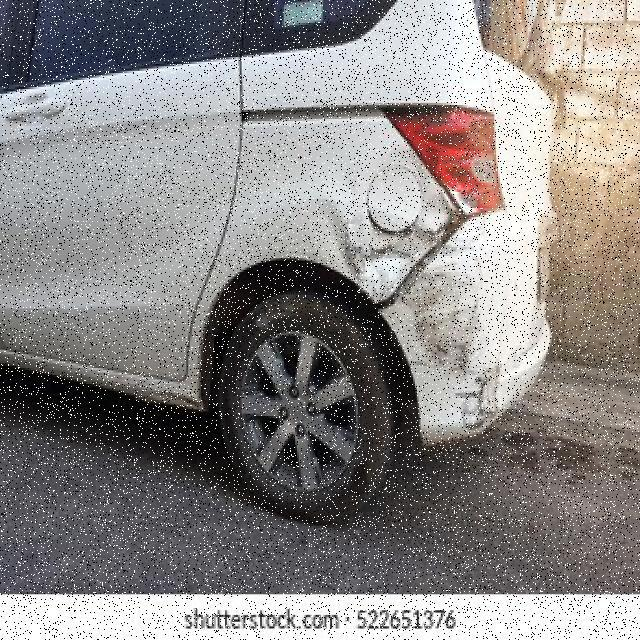car damage: (384, 215, 590, 446), (229, 108, 428, 314)
